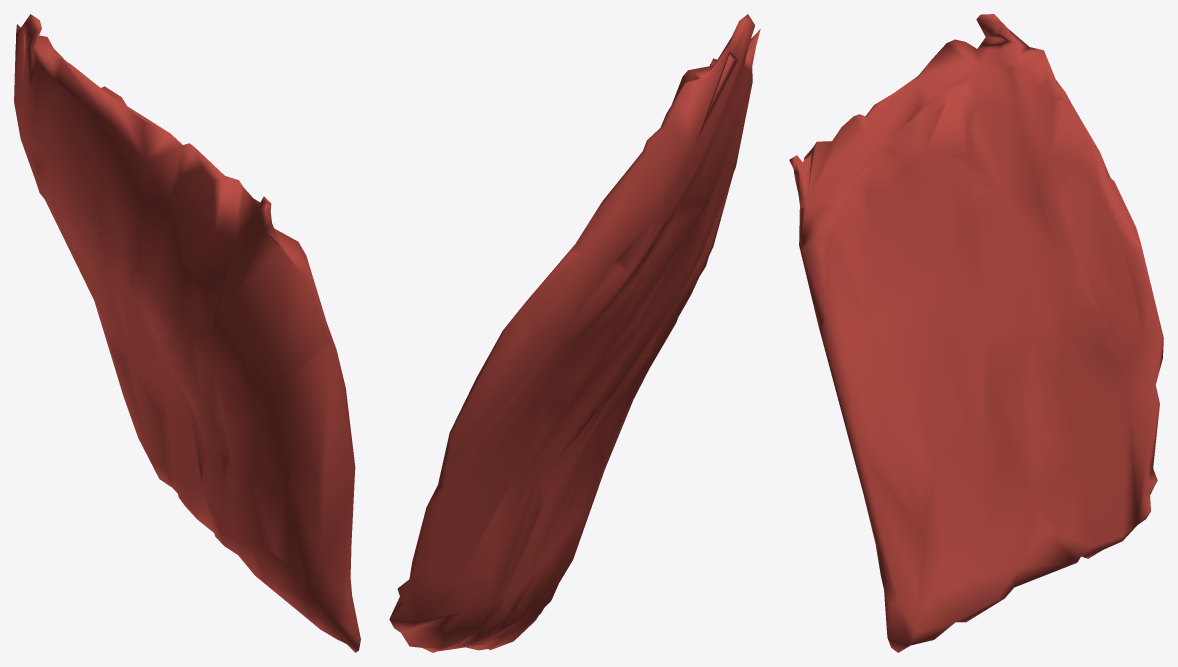
File: musculos-superficial-part-of-masseter-r.glb
The picture shows the model from 3 angles, left to right: view 1: azimuth 30°, elevation 25°; view 2: azimuth 150°, elevation 25°; view 3: azimuth 270°, elevation 25°; orthographic projection. The views are drawn at different scales.
Visible parts, largest first — view 1: Superficial part of masseter.r; view 2: Superficial part of masseter.r; view 3: Superficial part of masseter.r.
Boxes of the visible parts, x1,y1,x2,y2 form: Superficial part of masseter.r: (14,14,360,652); Superficial part of masseter.r: (389,14,760,652); Superficial part of masseter.r: (789,14,1163,652).
Size of the model in its own units: 0.0266 by 0.0621 by 0.0395.
